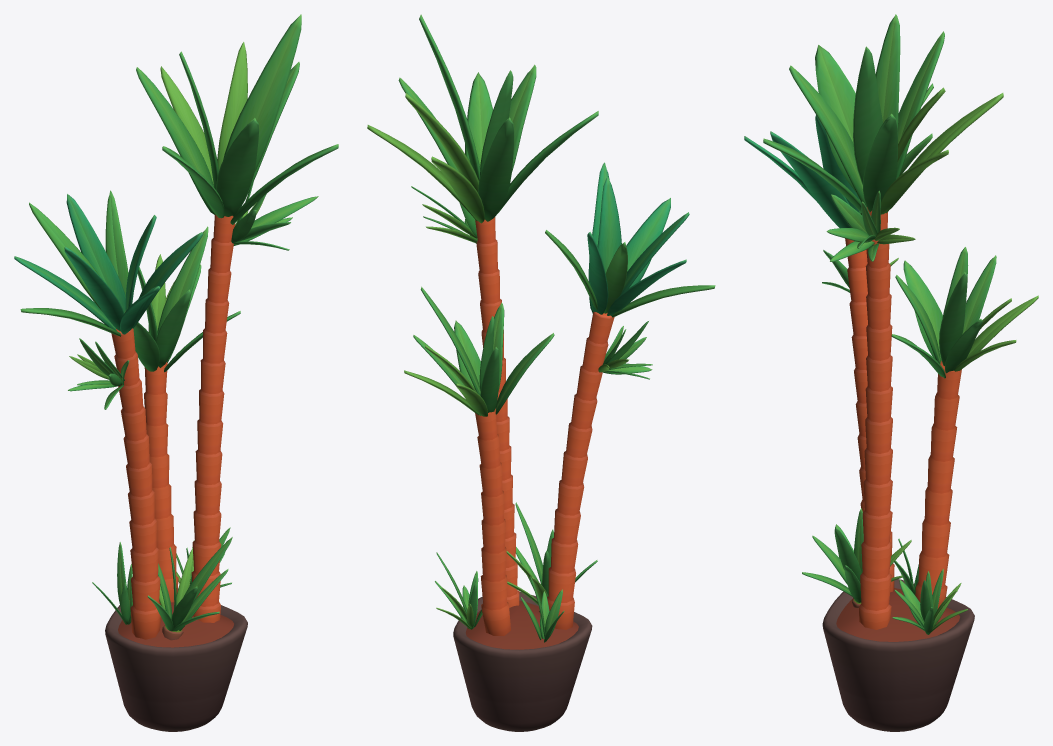
The model's file is Plants_22.glb.
3 views of the same model, side by side, from view 1: azimuth 30°, elevation 25°; view 2: azimuth 150°, elevation 25°; view 3: azimuth 270°, elevation 25° (orthographic). The views are drawn at different scales.
Visible parts, largest first — view 1: Plants_22; view 2: Plants_22; view 3: Plants_22.
Boxes of the visible parts, x1,y1,x2,y2 form: Plants_22: (14, 14, 338, 731); Plants_22: (367, 14, 715, 731); Plants_22: (744, 14, 1038, 731).
Size of the model in its own units: 1.37 by 2.92 by 1.07.
Materials: 1 (1 with a texture image).
